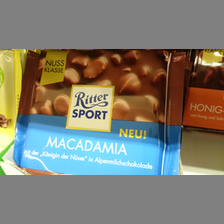chocolate: (13, 51, 180, 174)
